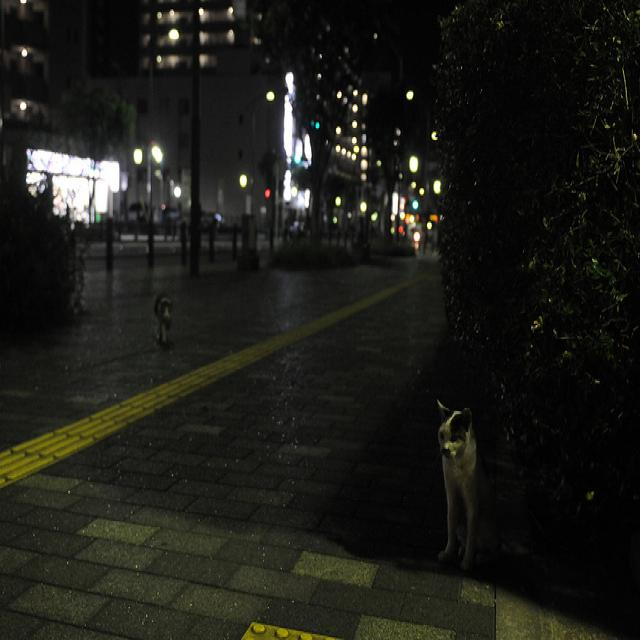Cat: (424, 385, 509, 587), (147, 292, 180, 346)
